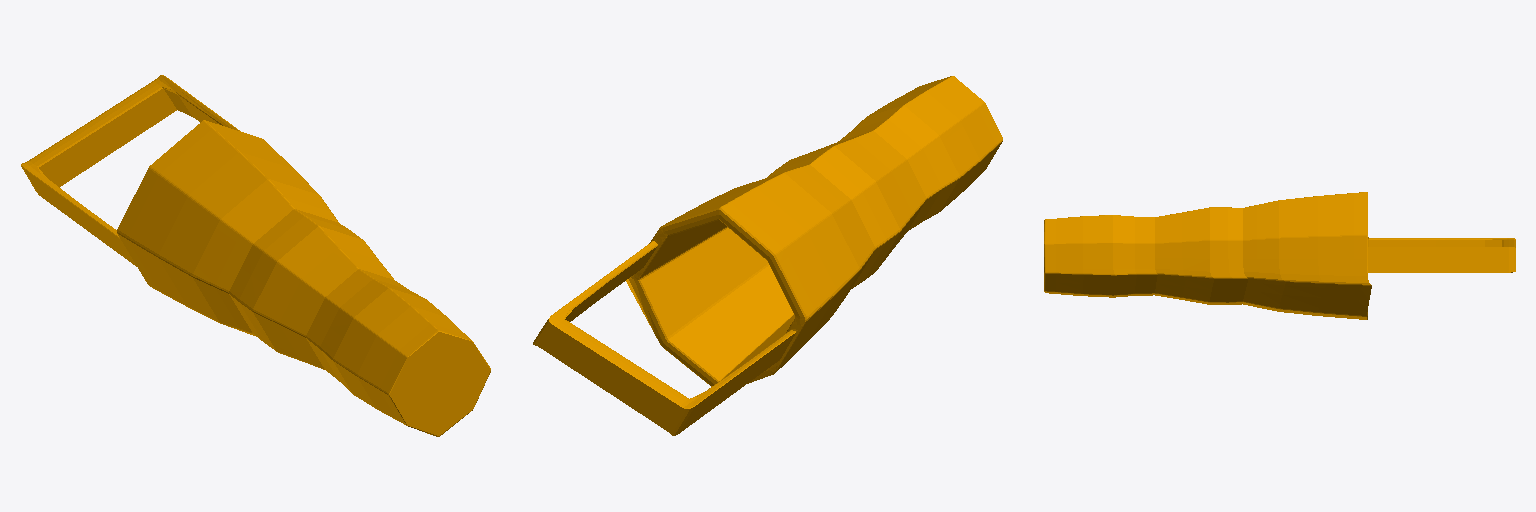
URDF robot description (298):
<?xml version="1.0" ?>
<robot name="298">
  <link name="body">
    <visual>
      <geometry>
        <mesh filename="../shapes/298.obj"/>
      </geometry>
    </visual>
    <collision>
      <geometry>
        <mesh filename="../shapes/298.obj"/>
      </geometry>
    </collision>
  </link>
</robot>

--- Facts derived from the render (not from the file) ---
The picture shows the robot from 3 angles, left to right: view 1: azimuth 30°, elevation 25°; view 2: azimuth 150°, elevation 25°; view 3: azimuth 270°, elevation 25°; orthographic projection.
Robot: 298 — 1 links, 0 joints (none); root link body; default pose: all joints at 0.
Visible links, largest first — view 1: body; view 2: body; view 3: body.
Boxes of the visible links, x1,y1,x2,y2 form: body: [21, 75, 490, 436]; body: [533, 76, 1002, 435]; body: [1044, 192, 1515, 319].
Bounding box of the posed robot: 3.09 × 10.24 × 3.07 m (x, y, z).
Meshes: 1 distinct files referenced, 1 mesh visuals loaded (1 OBJ).